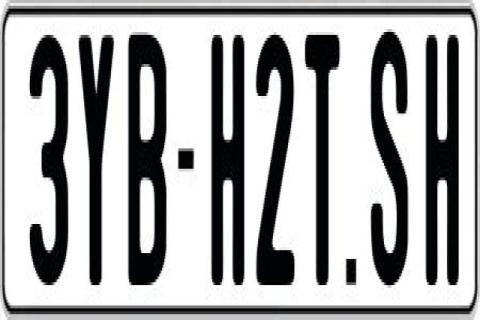0: (30, 35, 73, 297), (255, 29, 296, 294)
B: (127, 32, 171, 300)
H: (426, 32, 464, 300), (210, 32, 250, 285)
S: (369, 32, 407, 294)
T: (306, 32, 344, 291)
Y: (79, 32, 114, 285)
